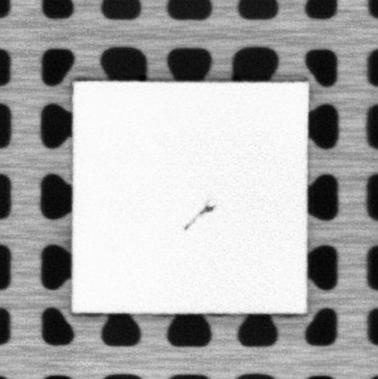DIE_INK: (183, 203, 215, 231)
